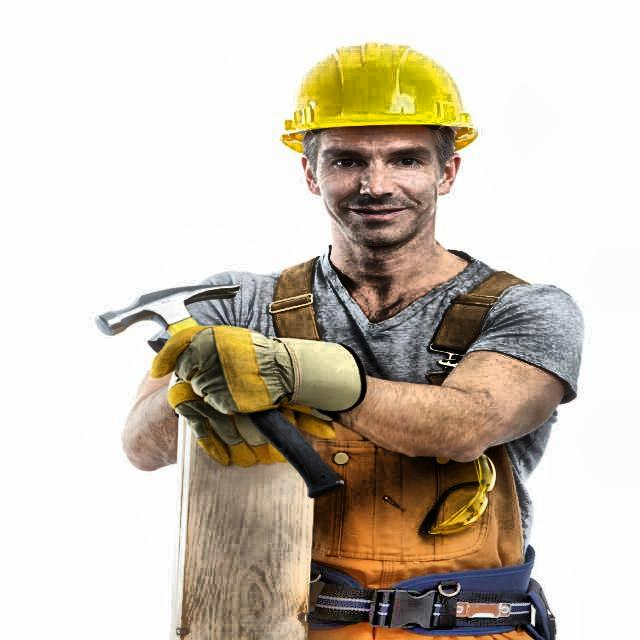person: (83, 42, 592, 628)
